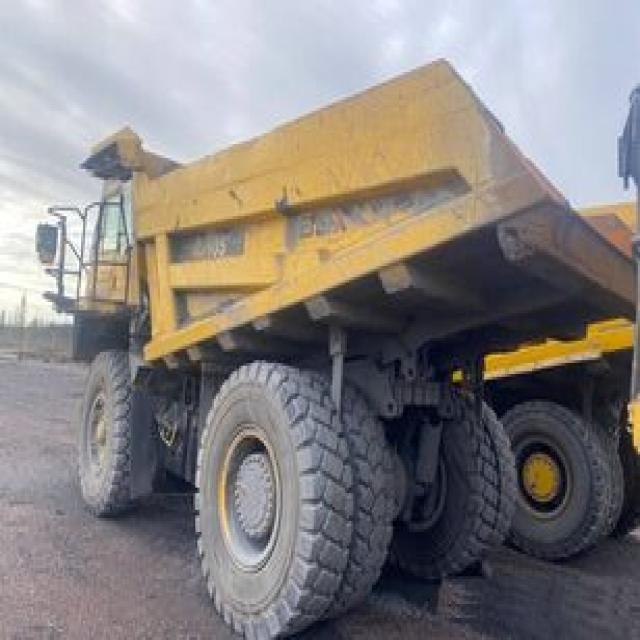dump_truck: (44, 48, 631, 640)
